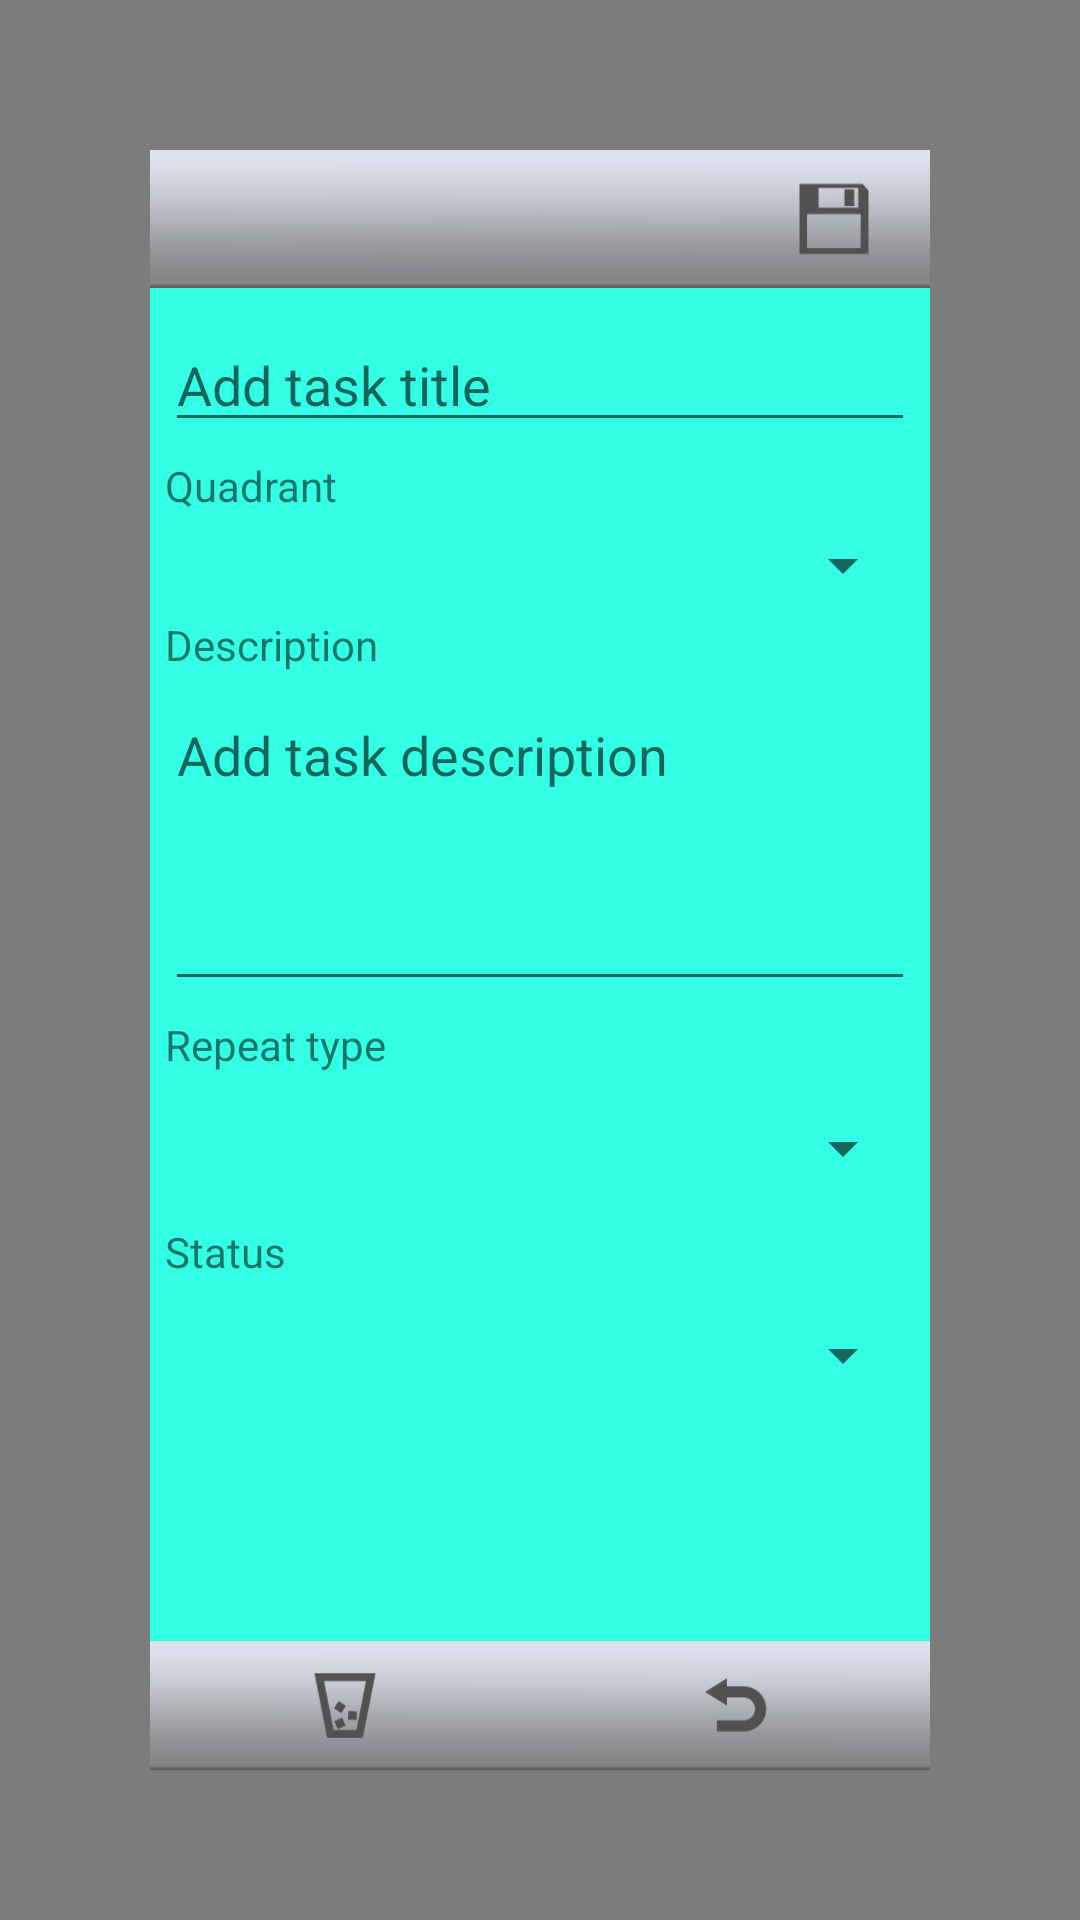

Screen size 1080 x 1920. Icon name, then its center in pixels as point (x, y):
floppy: point (834, 219)
